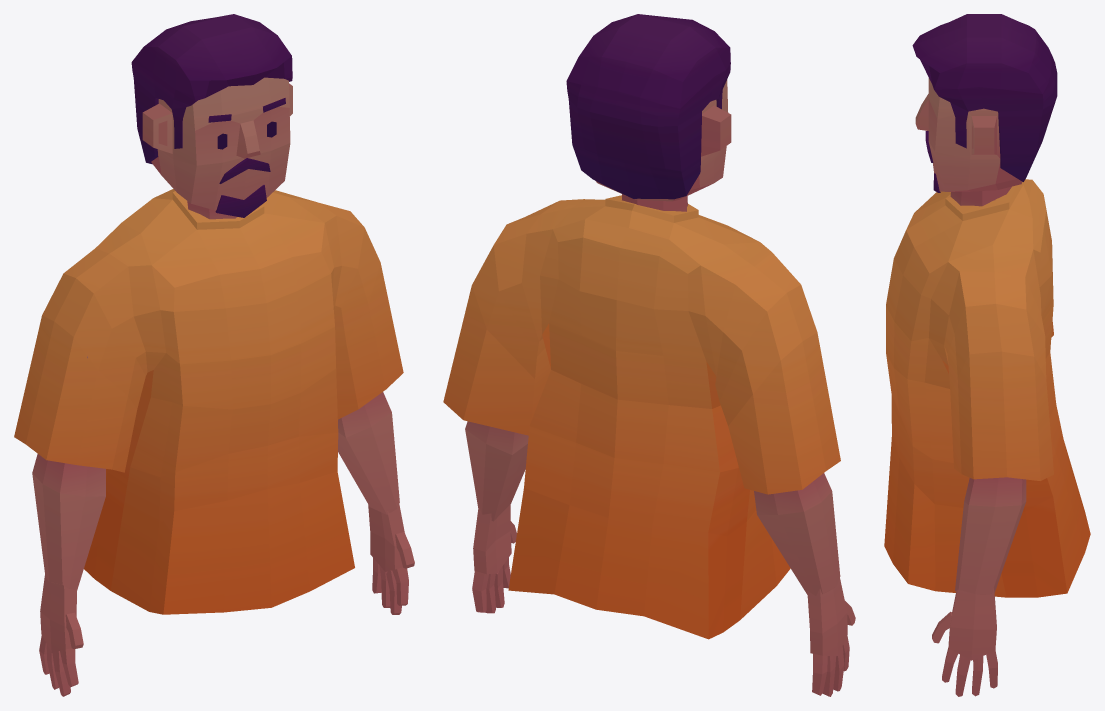
The model's file is Boy_Yellow.glb.
The picture shows the model from 3 angles, left to right: view 1: azimuth 30°, elevation 25°; view 2: azimuth 150°, elevation 25°; view 3: azimuth 270°, elevation 25°; orthographic projection. The views are drawn at different scales.
Visible parts, largest first — view 1: Boy_Yellow; view 2: Boy_Yellow; view 3: Boy_Yellow.
Boxes of the visible parts, x1,y1,x2,y2 form: Boy_Yellow: (14, 14, 414, 696); Boy_Yellow: (443, 14, 855, 696); Boy_Yellow: (884, 14, 1090, 696).
Bounding box in the file's own units: 2.43 × 3.95 × 1.25.
Materials: 1 (1 with a texture image).
